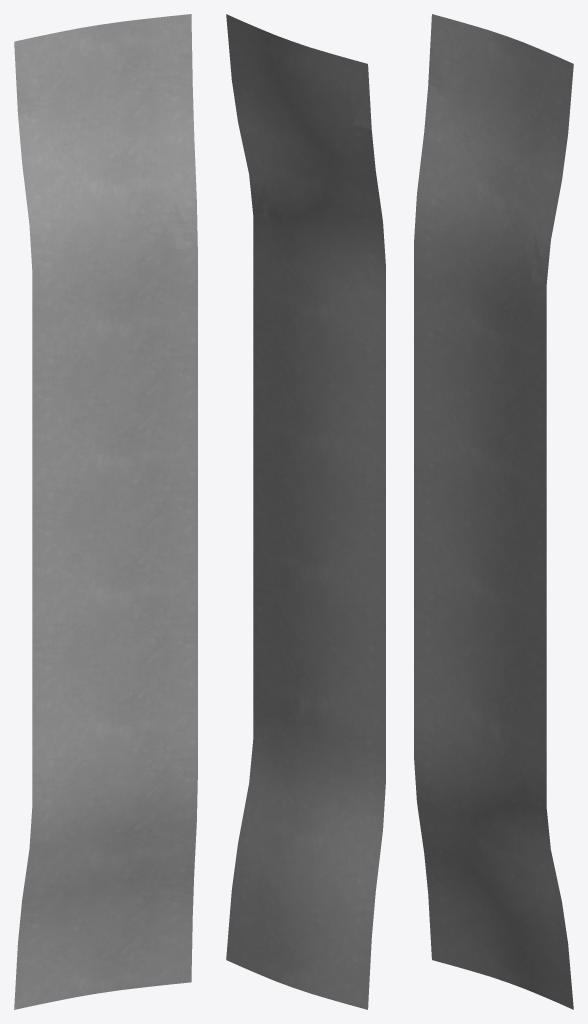
The model's file is WindowEnd_Window01.FBX.
3 renders of one model, left to right at view 1: azimuth 30°, elevation 25°; view 2: azimuth 150°, elevation 25°; view 3: azimuth 330°, elevation 25°, orthographic. The views are drawn at different scales.
Visible parts, largest first — view 1: WindowEnd_Window01; view 2: WindowEnd_Window01; view 3: WindowEnd_Window01.
Part boxes in pixels (x1,y1,x2,y2): WindowEnd_Window01: (14, 14, 197, 1009); WindowEnd_Window01: (226, 14, 385, 1009); WindowEnd_Window01: (414, 14, 573, 1009).
Size of the model in its own units: 5.04 by 28.89 by 1.79.
